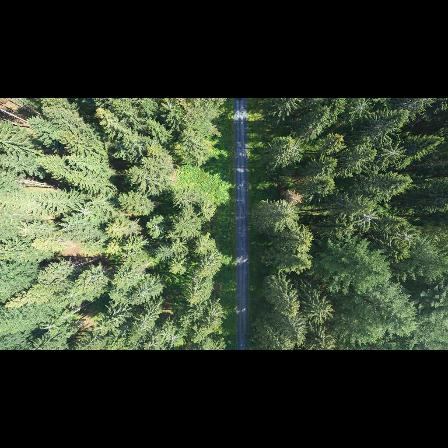Sick: (355, 206, 385, 233), (378, 140, 406, 166), (394, 226, 420, 248), (349, 99, 375, 119), (77, 203, 96, 224)
